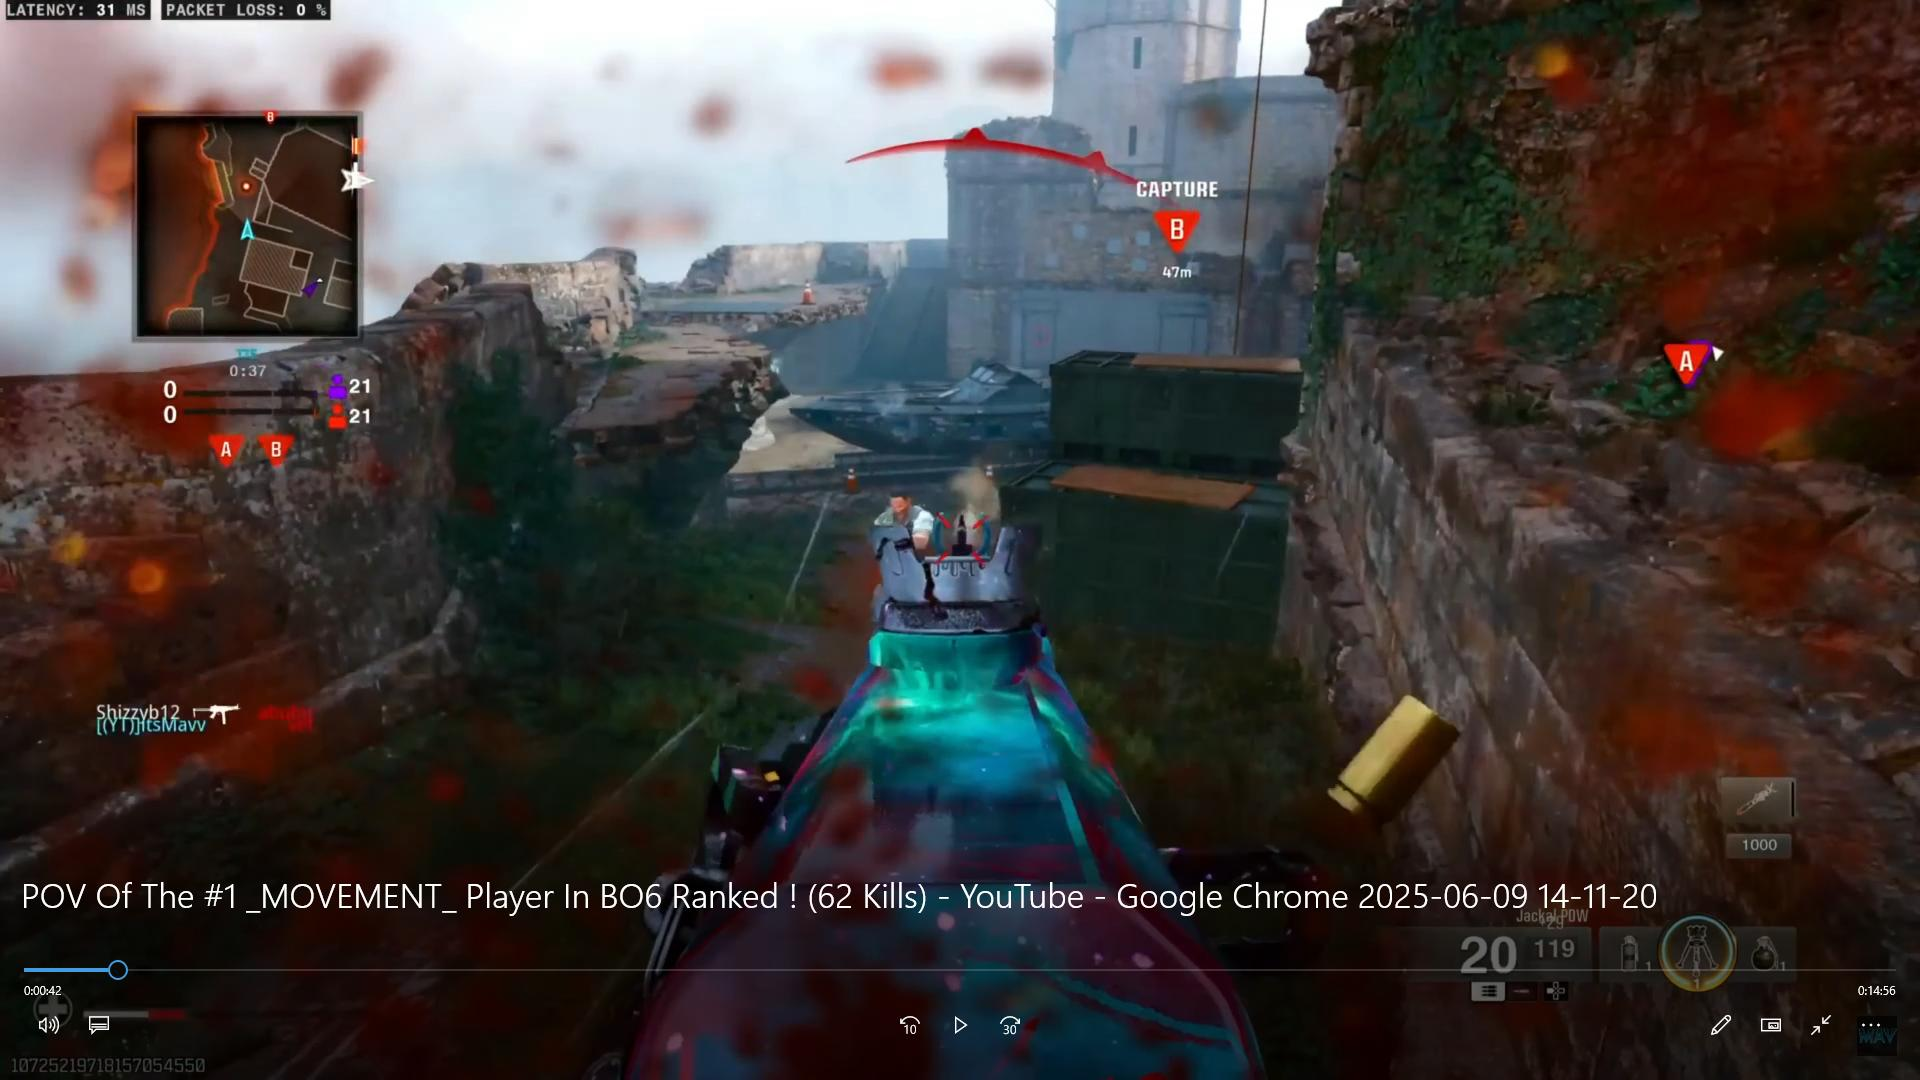Enemy: (868, 489, 938, 534)
